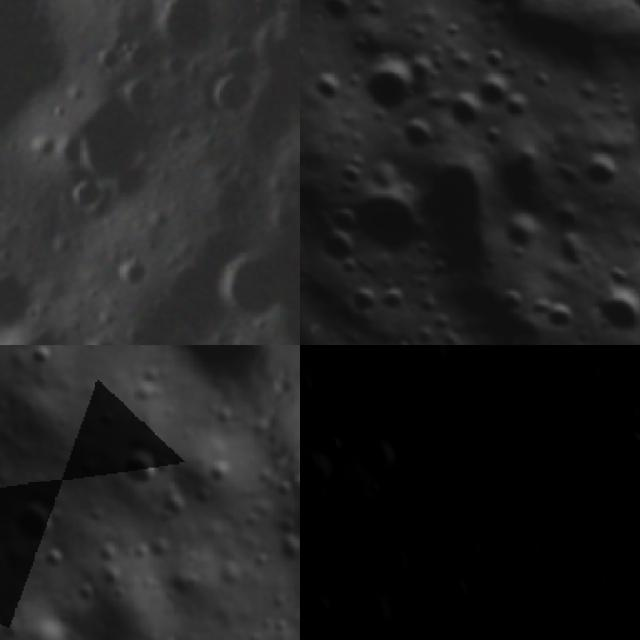crater: (387, 138, 543, 294), (323, 162, 440, 280), (214, 242, 299, 329), (348, 44, 430, 126), (103, 432, 177, 500), (142, 0, 222, 61), (4, 491, 74, 557), (337, 578, 401, 640), (308, 217, 370, 280), (587, 276, 640, 345), (492, 202, 552, 262), (109, 63, 167, 123), (396, 40, 451, 95), (316, 189, 371, 244), (352, 429, 404, 487), (209, 69, 265, 121), (302, 60, 355, 113), (341, 276, 392, 328), (548, 225, 599, 276), (329, 147, 380, 198), (0, 261, 37, 330), (578, 146, 628, 197), (530, 350, 575, 406), (68, 177, 123, 219), (538, 297, 586, 345), (469, 65, 517, 113), (493, 83, 541, 130), (396, 345, 450, 383), (117, 248, 156, 298), (566, 352, 608, 395), (18, 317, 81, 345), (474, 37, 516, 79), (95, 36, 135, 80), (449, 0, 526, 22), (315, 0, 367, 32), (423, 304, 463, 343), (350, 369, 392, 406), (434, 566, 472, 606), (457, 370, 495, 410), (312, 424, 345, 466), (494, 286, 532, 322), (413, 290, 450, 326), (611, 423, 640, 468), (474, 118, 509, 154), (16, 345, 56, 376), (515, 530, 548, 566), (600, 608, 636, 640), (407, 319, 442, 345), (300, 67, 313, 116)
